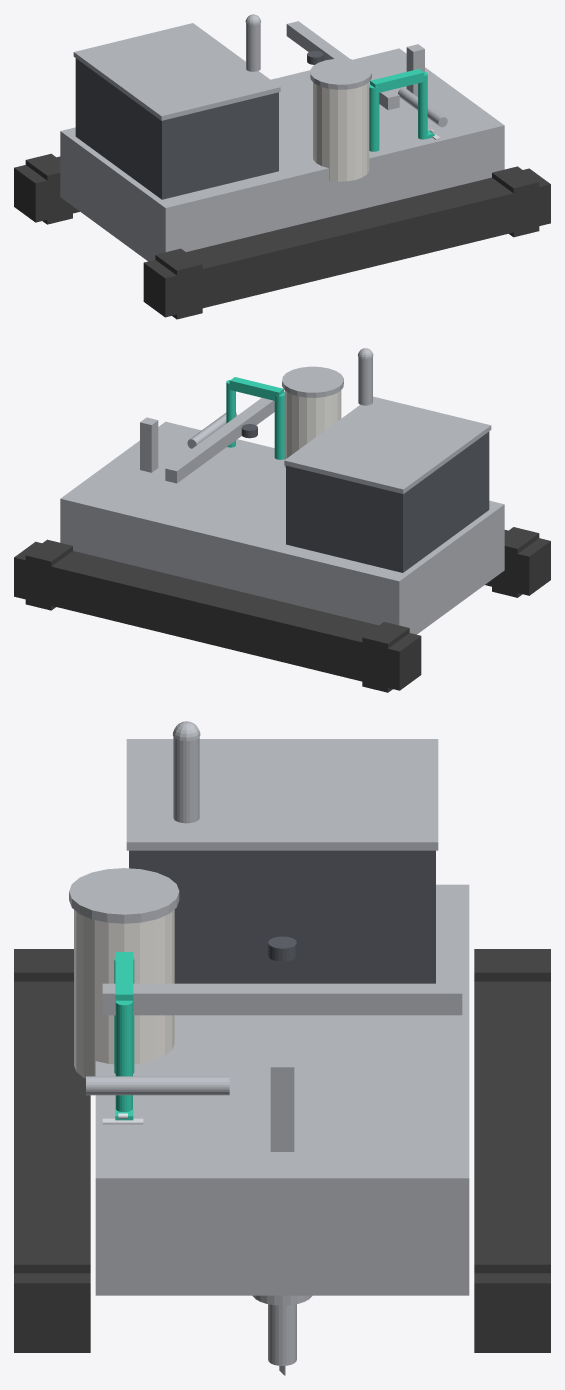
File: terraplanter.glb
3 views of the same model, one above another, from view 1: azimuth 30°, elevation 25°; view 2: azimuth 150°, elevation 25°; view 3: azimuth 270°, elevation 25° (orthographic). The views are drawn at different scales.
Parts seen in each view (by area): view 1: Tracked_Chassis, Track_R, Diesel_Generator, Generator_Hood, Sapling_Magazine, Track_L, Robotic_Planting_Arm, Hydraulic_Auger_Boom, Rotary_Magazine_Drive, Exhaust_Pipe, Boom_Hydraulic_Cyl; view 2: Tracked_Chassis, Track_L, Diesel_Generator, Generator_Hood, Hydraulic_Auger_Boom, Track_R, Sapling_Magazine, Robotic_Planting_Arm, Rotary_Magazine_Drive, Exhaust_Pipe, Boom_Hydraulic_Cyl; view 3: Tracked_Chassis, Diesel_Generator, Generator_Hood, Track_L, Track_R, Hydraulic_Auger_Boom, Sapling_Magazine, Rotary_Magazine_Drive, Robotic_Planting_Arm, Boom_Hydraulic_Cyl, Exhaust_Pipe, Auger_Drill_Bit.
Part boxes in pixels (x1,y1,x2,y2): Tracked_Chassis: (60, 48, 504, 261); Track_R: (143, 166, 550, 319); Diesel_Generator: (75, 58, 278, 199); Generator_Hood: (73, 23, 280, 120); Sapling_Magazine: (313, 82, 369, 181); Track_L: (14, 153, 79, 224); Robotic_Planting_Arm: (369, 69, 434, 151); Hydraulic_Auger_Boom: (286, 21, 424, 110); Rotary_Magazine_Drive: (310, 58, 371, 89); Exhaust_Pipe: (246, 23, 260, 71); Boom_Hydraulic_Cyl: (398, 87, 447, 127); Tracked_Chassis: (60, 421, 504, 634); Track_L: (14, 539, 421, 692); Diesel_Generator: (286, 431, 489, 572); Generator_Hood: (284, 396, 491, 493); Hydraulic_Auger_Boom: (140, 398, 274, 483); Track_R: (485, 527, 550, 597); Sapling_Magazine: (284, 390, 341, 467); Robotic_Planting_Arm: (226, 377, 284, 459); Rotary_Magazine_Drive: (282, 366, 343, 397); Exhaust_Pipe: (358, 357, 372, 405); Boom_Hydraulic_Cyl: (187, 412, 237, 448); Tracked_Chassis: (95, 884, 469, 1295); Diesel_Generator: (129, 850, 435, 983); Generator_Hood: (126, 739, 438, 850); Track_L: (474, 949, 550, 1352); Track_R: (14, 949, 90, 1352); Hydraulic_Auger_Boom: (102, 983, 462, 1151); Sapling_Magazine: (74, 909, 174, 1078); Rotary_Magazine_Drive: (69, 868, 179, 923); Robotic_Planting_Arm: (114, 952, 134, 1120); Boom_Hydraulic_Cyl: (86, 1076, 229, 1095); Exhaust_Pipe: (173, 736, 199, 823); Auger_Drill_Bit: (268, 1304, 296, 1375).
Size of the model in its own units: 3.3 by 2.24 by 2.24.
